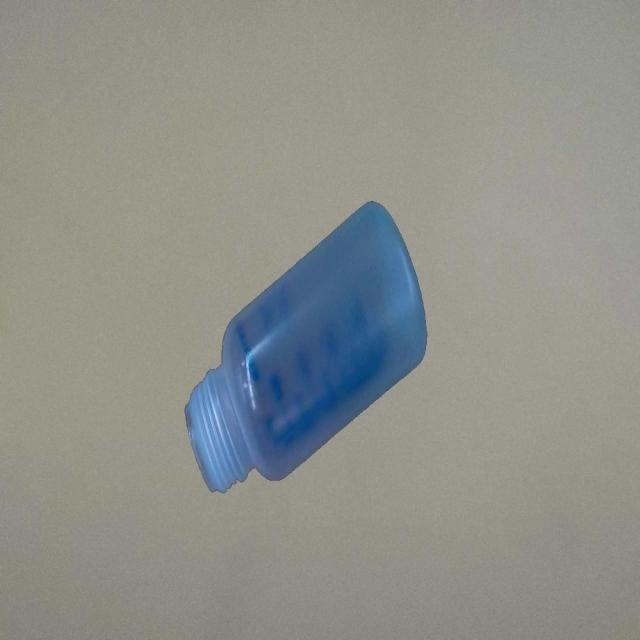bottle: (184, 199, 427, 495)
